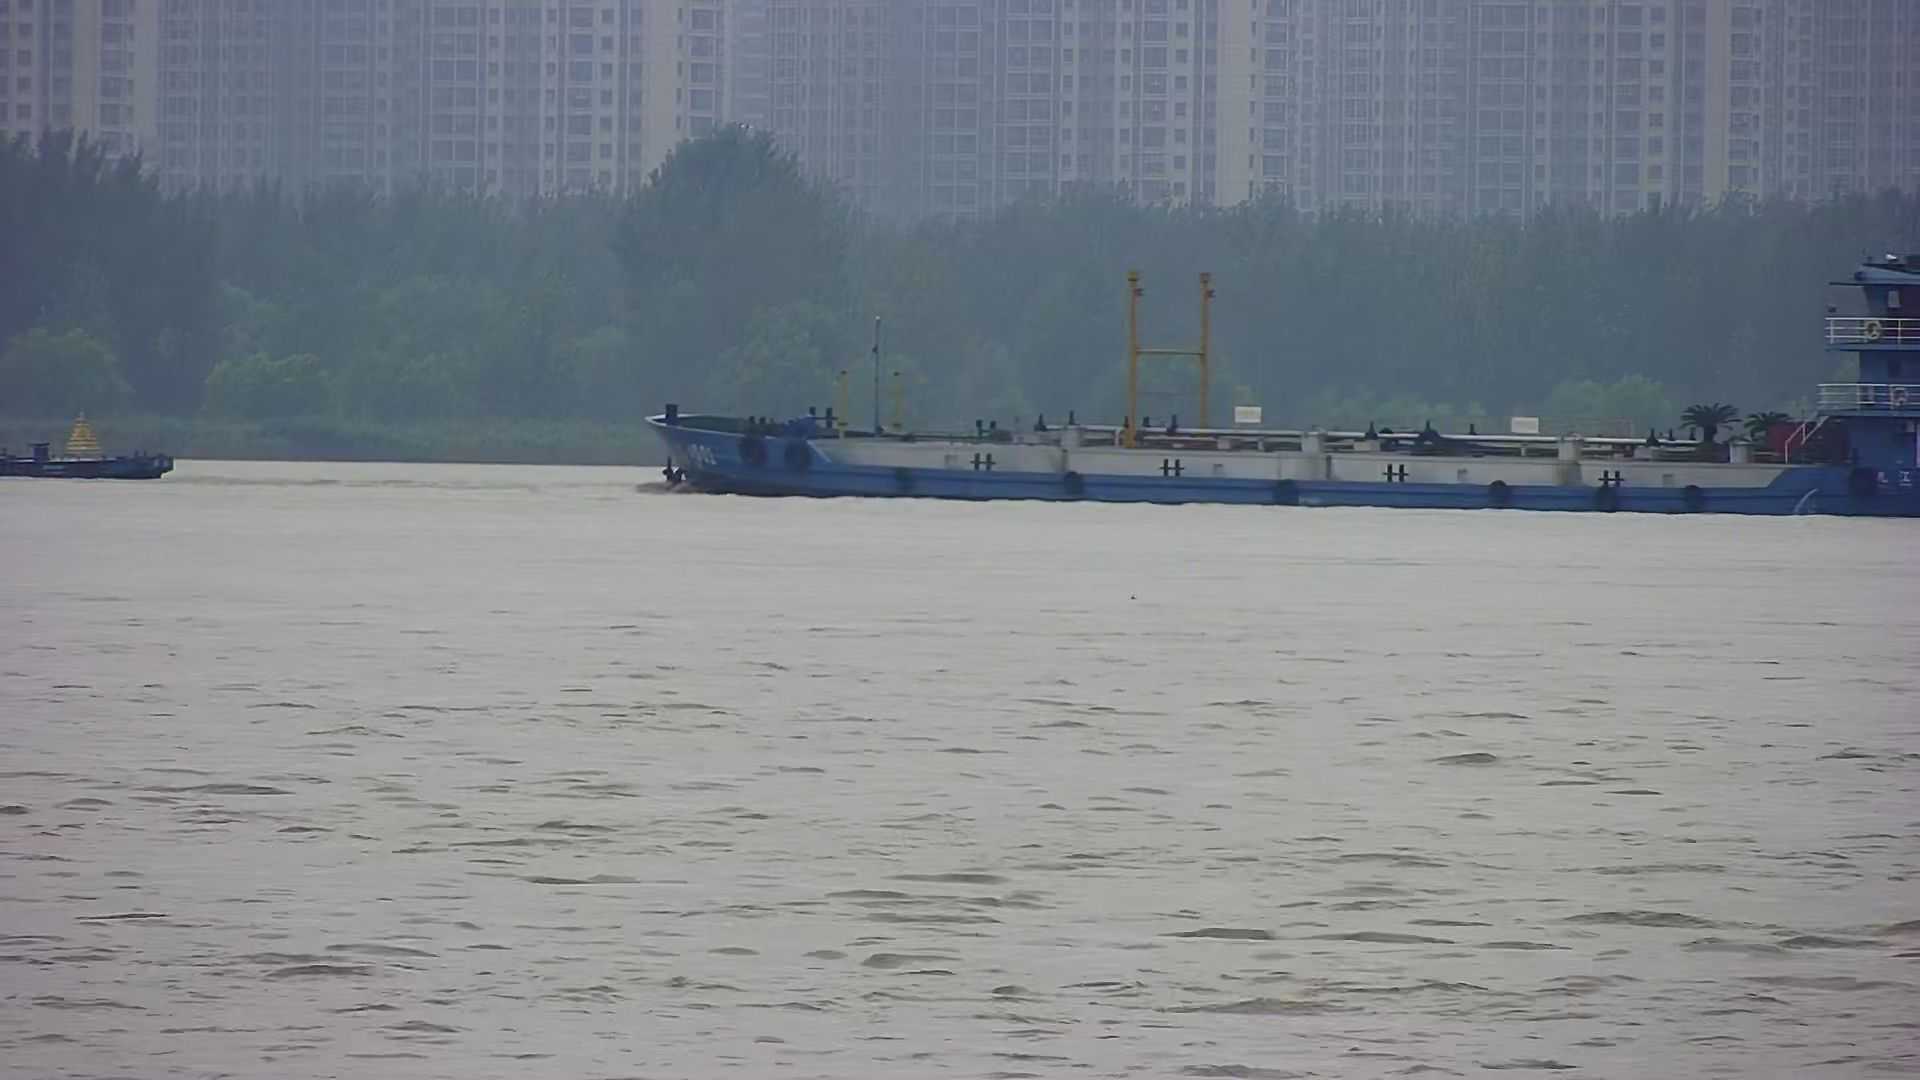boat: (1, 405, 171, 481)
ship: (646, 252, 1920, 518)
